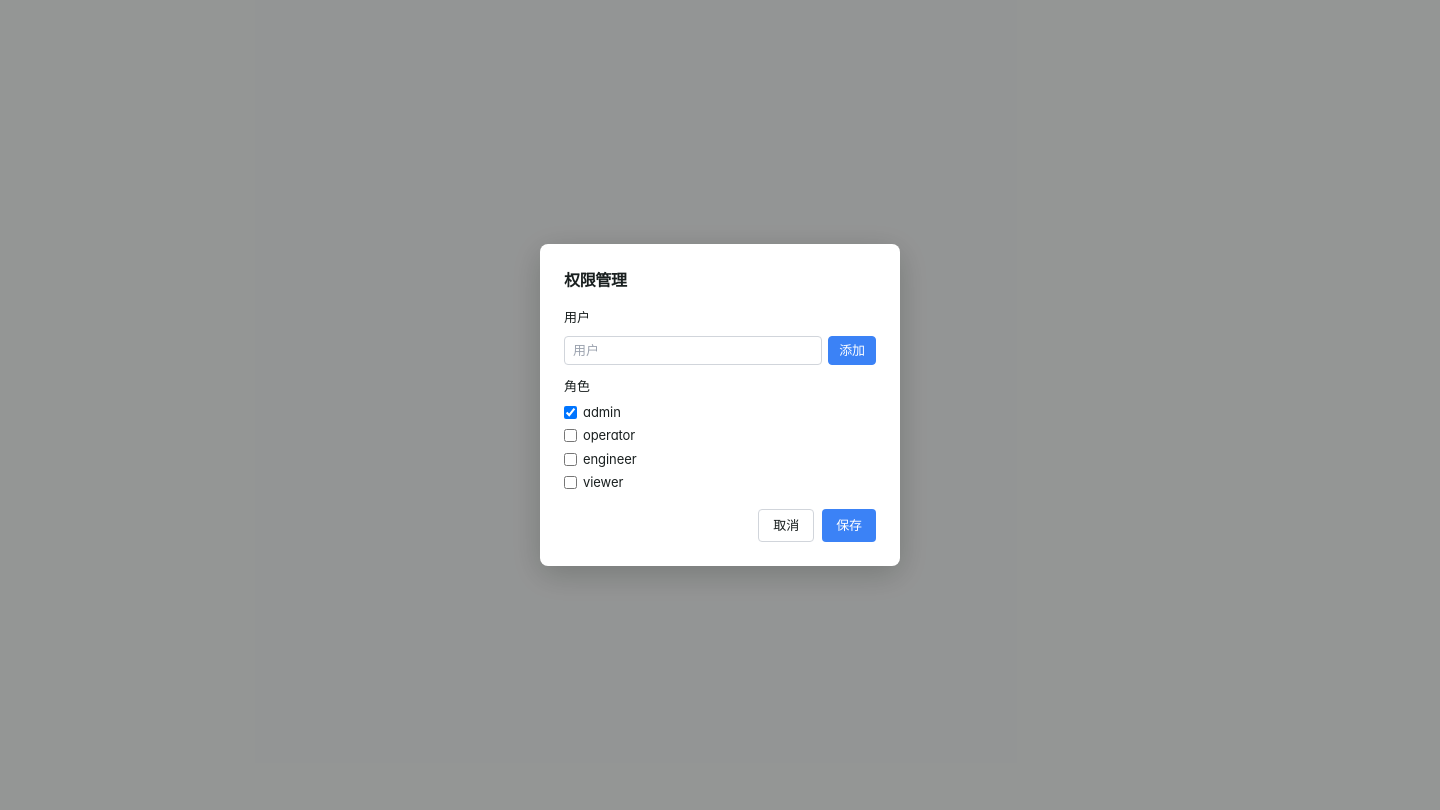
Test: AclEditor › 添加 user 到列表
In the field with test id "acl-user-input": (693, 350) [564,336,822,365], type "u_bob"
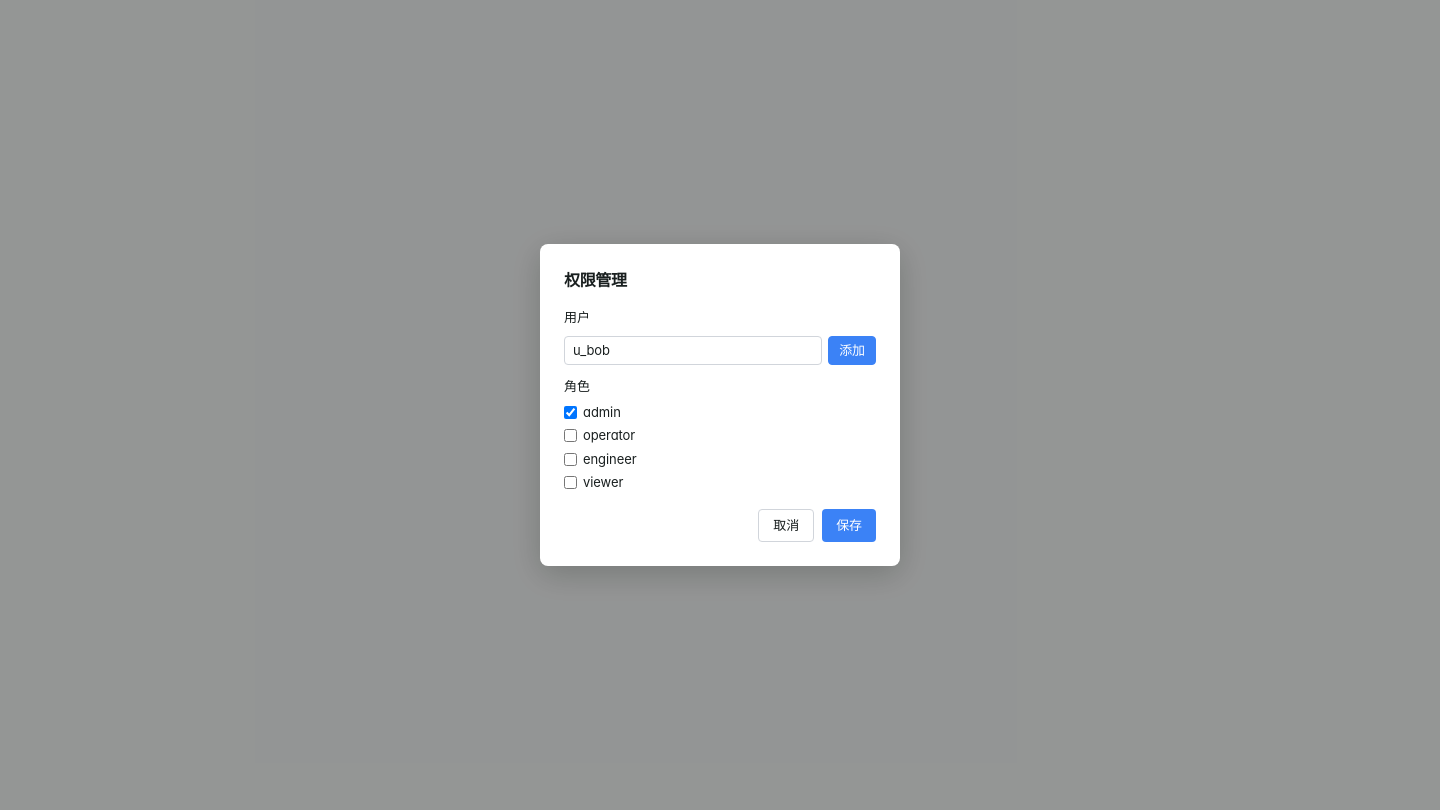
Click the button with test id "acl-add-user-btn": click(852, 350) [828,336,876,365]
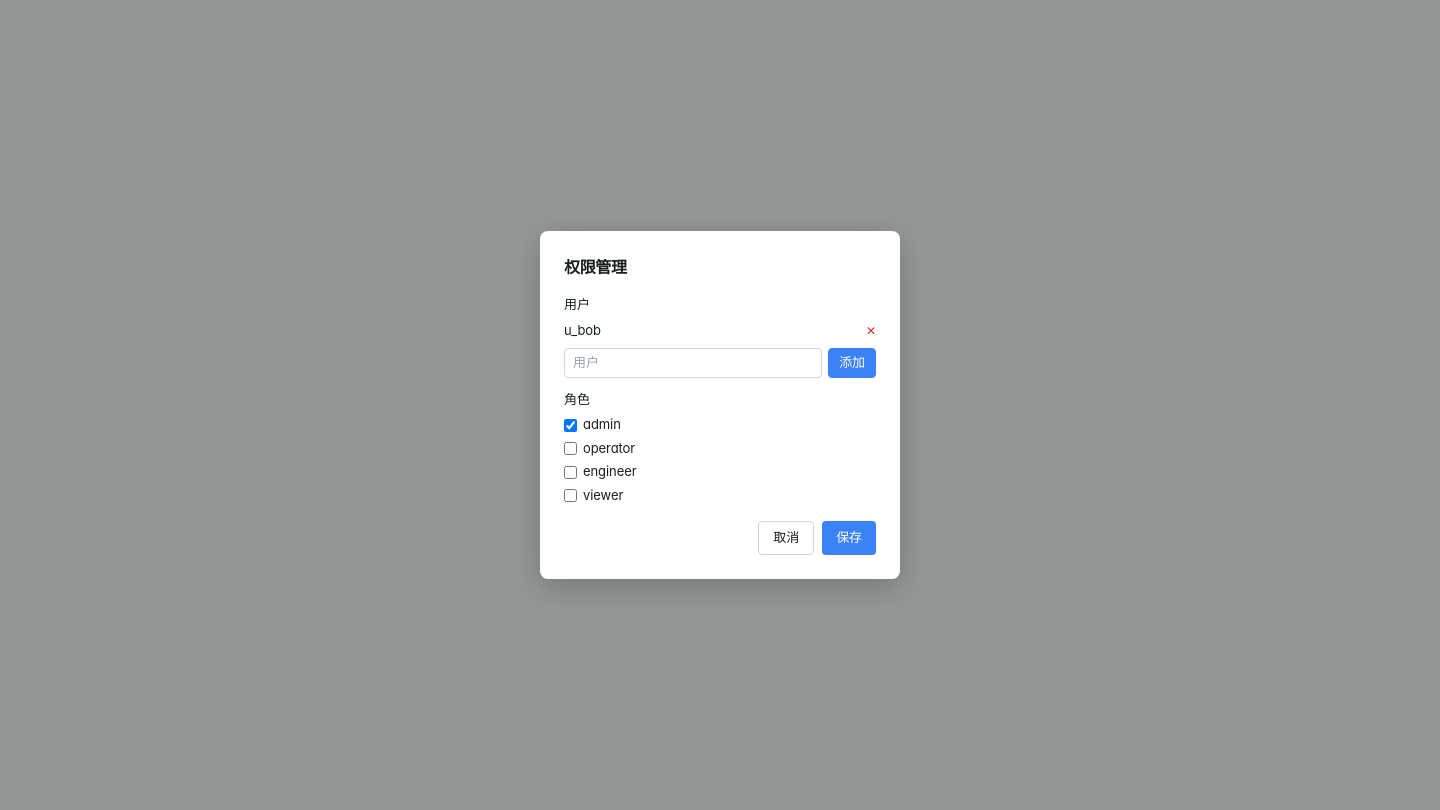
Expected: the text "u_bob" is shown, [564,322,601,338]
